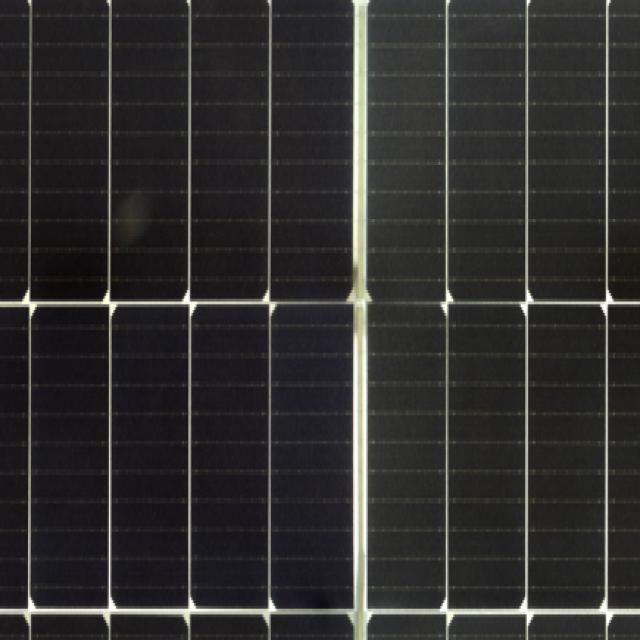CELL SHORT: (369, 272, 445, 326), (271, 286, 357, 325)
